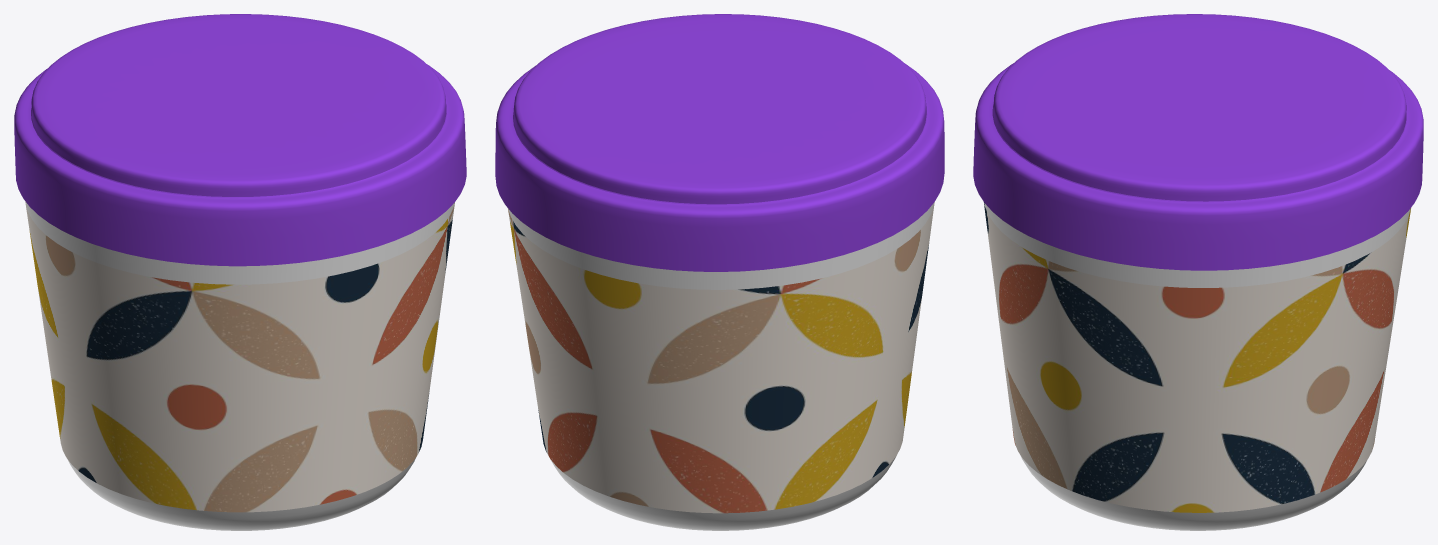
File: iceCream2.glb
3 renders of one model, left to right at view 1: azimuth 30°, elevation 25°; view 2: azimuth 150°, elevation 25°; view 3: azimuth 270°, elevation 25°, orthographic.
Parts seen in each view (by area): view 1: Cap, Label, Main Jar; view 2: Cap, Label, Main Jar; view 3: Cap, Label, Main Jar.
Part boxes in pixels (x1,y1,x2,y2): Cap: (14, 14, 466, 266); Label: (25, 201, 454, 512); Main Jar: (25, 202, 454, 530); Cap: (495, 14, 944, 271); Label: (508, 202, 934, 513); Main Jar: (508, 203, 933, 530); Cap: (973, 14, 1423, 270); Label: (984, 202, 1410, 512); Main Jar: (984, 203, 1410, 530).
Bounding box in the file's own units: 2.5 × 2.3 × 2.51.
3 materials, 1 textured.
